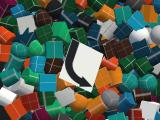Left: (59, 38, 103, 92)
